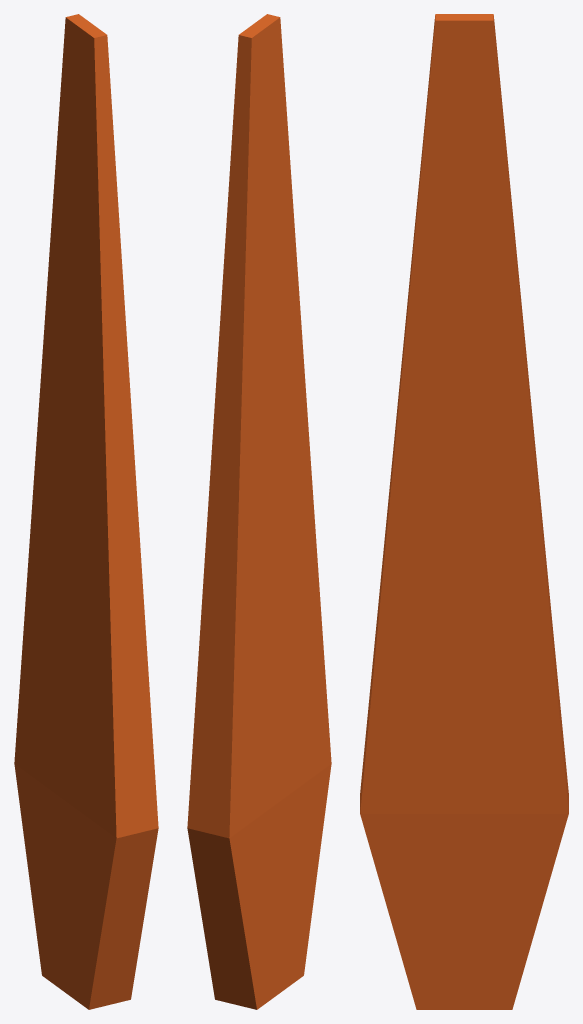
The model's file is BusterSword.fbx.
3 views of the same model, side by side, from view 1: azimuth 30°, elevation 25°; view 2: azimuth 150°, elevation 25°; view 3: azimuth 270°, elevation 25° (orthographic). The views are drawn at different scales.
Parts seen in each view (by area): view 1: BusterSword; view 2: BusterSword; view 3: BusterSword.
Part boxes in pixels (<box>): BusterSword: <box>14,14,158,1009</box>; BusterSword: <box>187,14,331,1009</box>; BusterSword: <box>360,14,568,1009</box>.
Bounding box in the file's own units: 24.14 × 102 × 527.
